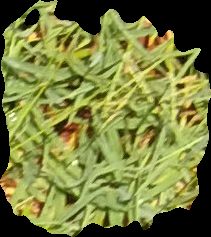grass: (1, 1, 210, 236)
